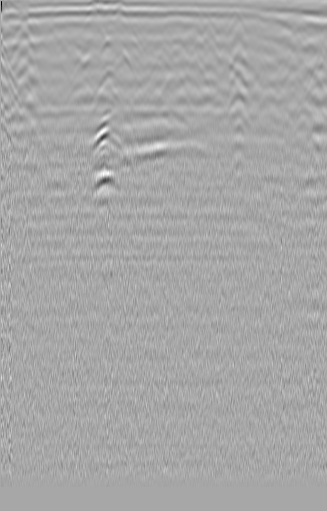가스: (91, 169, 120, 199)
상수: (8, 17, 35, 49)
오수: (283, 57, 319, 89)
우수: (137, 32, 170, 60)
